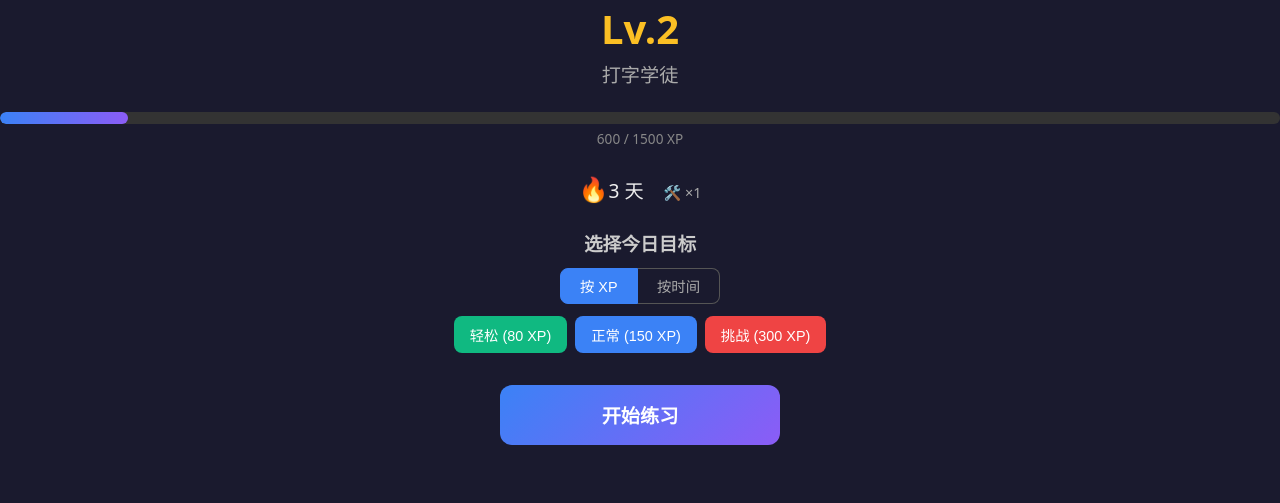
Test case: HomePage › shows time goal buttons when time tab clicked
What coordinates should you click on to do the following:
click the button "按时间"
I would click on:
 (679, 286)
Its box is [638, 268, 720, 304].
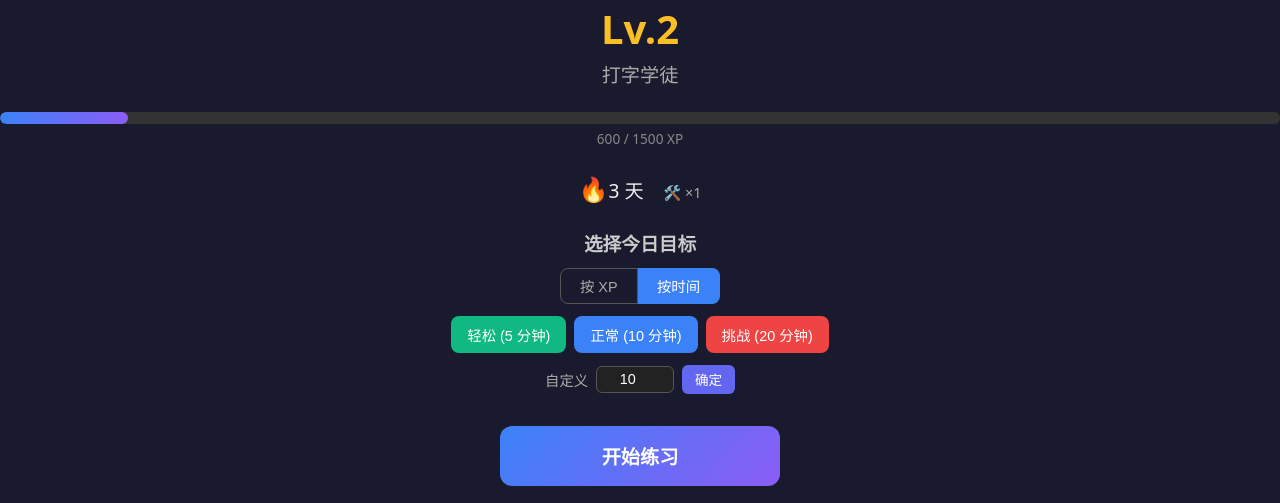
Expected: the text "轻松 (5 分钟)" is shown, [451, 316, 566, 353]
Expected: the text "正常 (10 分钟)" is shown, [574, 316, 698, 353]
Expected: the text "挑战 (20 分钟)" is shown, [706, 316, 829, 353]
